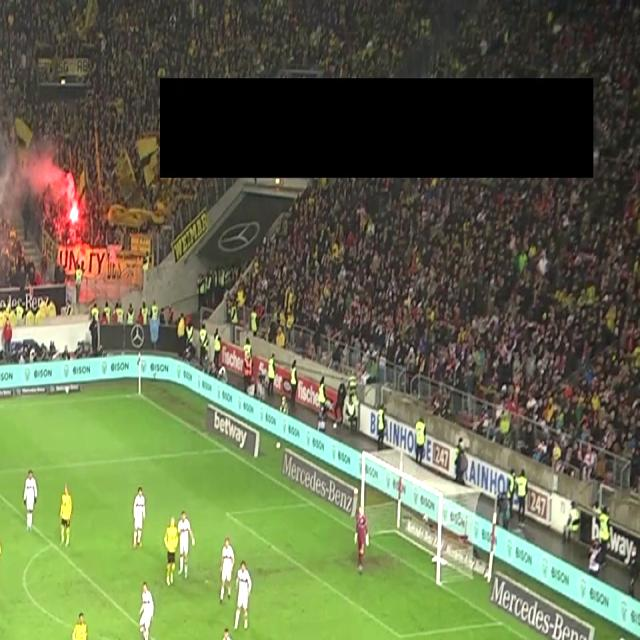goalkeeper: (343, 499, 381, 576)
referee: (0, 531, 9, 626)
soccer-player: (161, 509, 202, 592), (233, 560, 262, 638), (213, 534, 244, 606), (129, 577, 162, 640), (52, 481, 80, 554), (125, 486, 154, 556), (16, 468, 42, 537), (61, 605, 95, 640), (210, 627, 248, 640)
